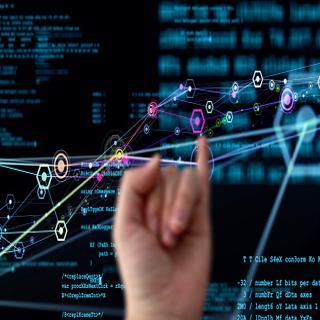Fine: (102, 128, 230, 314)
